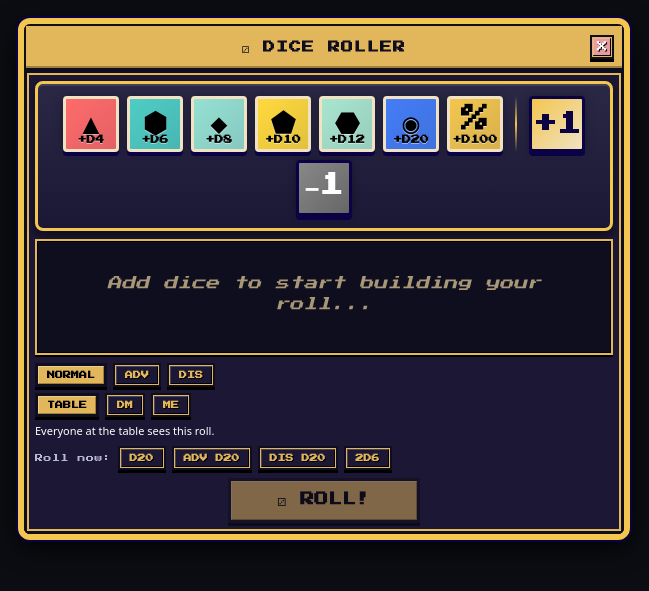
Test: DiceRoller › Adding Dice › should add a die to the build
Click the button named "add d20" at (411, 124), box left=383, top=96, right=439, bottom=152
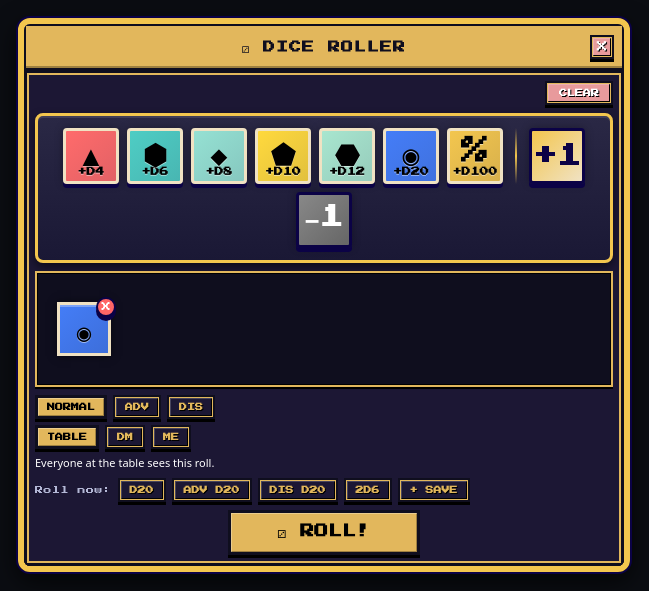
Check: the text "Add dice to start building" is gone
